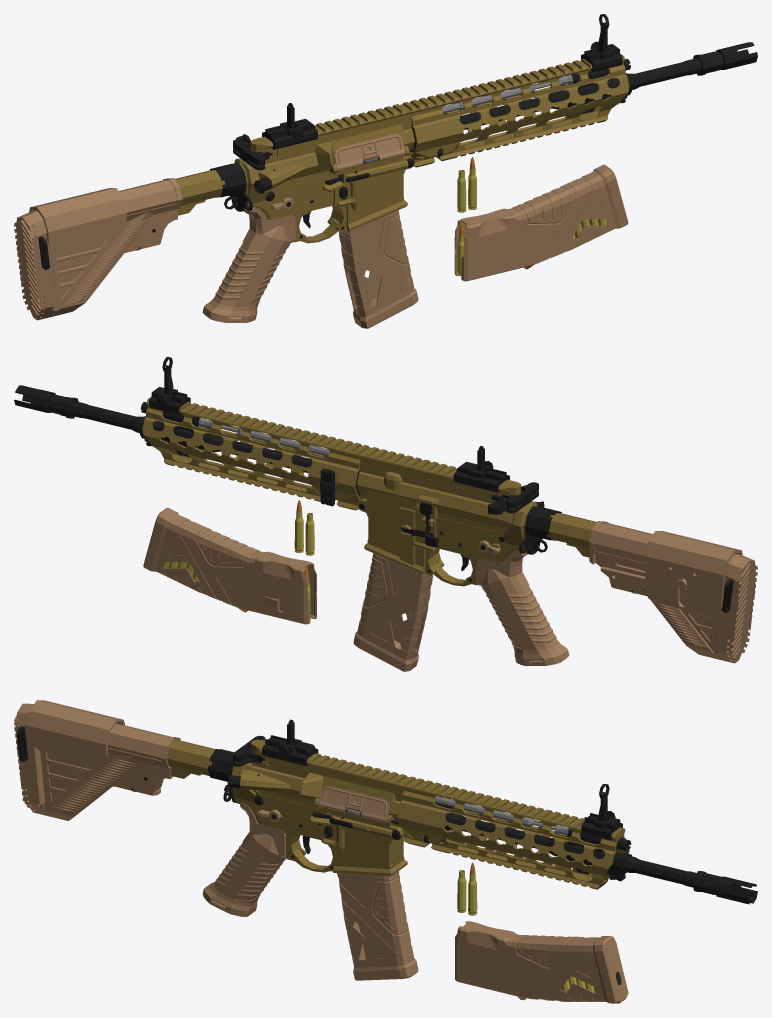
3 renders of one model, top to bottom at view 1: azimuth 30°, elevation 25°; view 2: azimuth 150°, elevation 25°; view 3: azimuth 330°, elevation 25°, orthographic.
Visible parts, largest first — view 1: hk416a8 handguard, 55645 ar15 30rnd mag (hk), hk416a8 stock, hk416a8 lower receiver, hk416a8 upper receiver, 55645 ar15 30rnd mag empty (hk), hk416a8 pistol grip, hk416a8 cheek, hk416a8 barrel, hk416a8 dust covet, hk416a8 rare sight, hk416a8 flash hider (+2 smaller); view 2: hk416a8 handguard, 55645 ar15 30rnd mag (hk), hk416a8 lower receiver, hk416a8 stock, hk416a8 upper receiver, 55645 ar15 30rnd mag empty (hk), hk416a8 cheek, hk416a8 pistol grip, hk416a8 barrel, hk416a8 rare sight, hk416a8 flash hider, hk416a8 front sight (+1 smaller); view 3: hk416a8 handguard, 55645 ar15 30rnd mag (hk), hk416a8 lower receiver, hk416a8 stock, 55645 ar15 30rnd mag empty (hk), hk416a8 upper receiver, hk416a8 pistol grip, hk416a8 cheek, hk416a8 barrel, hk416a8 dust covet, hk416a8 flash hider, hk416a8 rare sight (+1 smaller).
Part boxes in pixels (x1=…): hk416a8 handguard: x1=402, y1=53, x2=629, y2=167; 55645 ar15 30rnd mag (hk): x1=454, y1=164, x2=628, y2=281; hk416a8 stock: x1=14, y1=178, x2=182, y2=320; hk416a8 lower receiver: x1=175, y1=155, x2=414, y2=243; hk416a8 upper receiver: x1=251, y1=104, x2=414, y2=193; 55645 ar15 30rnd mag empty (hk): x1=338, y1=210, x2=418, y2=328; hk416a8 pistol grip: x1=202, y1=206, x2=295, y2=322; hk416a8 cheek: x1=29, y1=188, x2=126, y2=250; hk416a8 barrel: x1=442, y1=58, x2=701, y2=129; hk416a8 dust covet: x1=331, y1=134, x2=415, y2=171; hk416a8 rare sight: x1=262, y1=103, x2=317, y2=149; hk416a8 flash hider: x1=693, y1=42, x2=757, y2=75; hk416a8 handguard: x1=142, y1=396, x2=369, y2=510; 55645 ar15 30rnd mag (hk): x1=143, y1=507, x2=316, y2=624; hk416a8 lower receiver: x1=357, y1=498, x2=596, y2=586; hk416a8 stock: x1=589, y1=521, x2=757, y2=663; hk416a8 upper receiver: x1=357, y1=447, x2=544, y2=533; 55645 ar15 30rnd mag empty (hk): x1=353, y1=553, x2=433, y2=671; hk416a8 cheek: x1=645, y1=531, x2=742, y2=616; hk416a8 pistol grip: x1=476, y1=549, x2=569, y2=666; hk416a8 barrel: x1=70, y1=401, x2=329, y2=472; hk416a8 rare sight: x1=453, y1=446, x2=509, y2=492; hk416a8 flash hider: x1=14, y1=385, x2=78, y2=418; hk416a8 front sight: x1=149, y1=357, x2=190, y2=414; hk416a8 handguard: x1=397, y1=776, x2=629, y2=889; 55645 ar15 30rnd mag (hk): x1=455, y1=921, x2=628, y2=1003; hk416a8 lower receiver: x1=167, y1=740, x2=407, y2=876; hk416a8 stock: x1=14, y1=703, x2=180, y2=820; 55645 ar15 30rnd mag empty (hk): x1=337, y1=871, x2=418, y2=980; hk416a8 upper receiver: x1=227, y1=739, x2=409, y2=835; hk416a8 pistol grip: x1=202, y1=802, x2=285, y2=916; hk416a8 cheek: x1=28, y1=700, x2=124, y2=763; hk416a8 barrel: x1=434, y1=796, x2=696, y2=887; hk416a8 dust covet: x1=319, y1=785, x2=399, y2=824; hk416a8 flash hider: x1=692, y1=871, x2=757, y2=904; hk416a8 rare sight: x1=262, y1=719, x2=318, y2=765.
Size of the model in its own units: 857 by 282 by 76.93.
